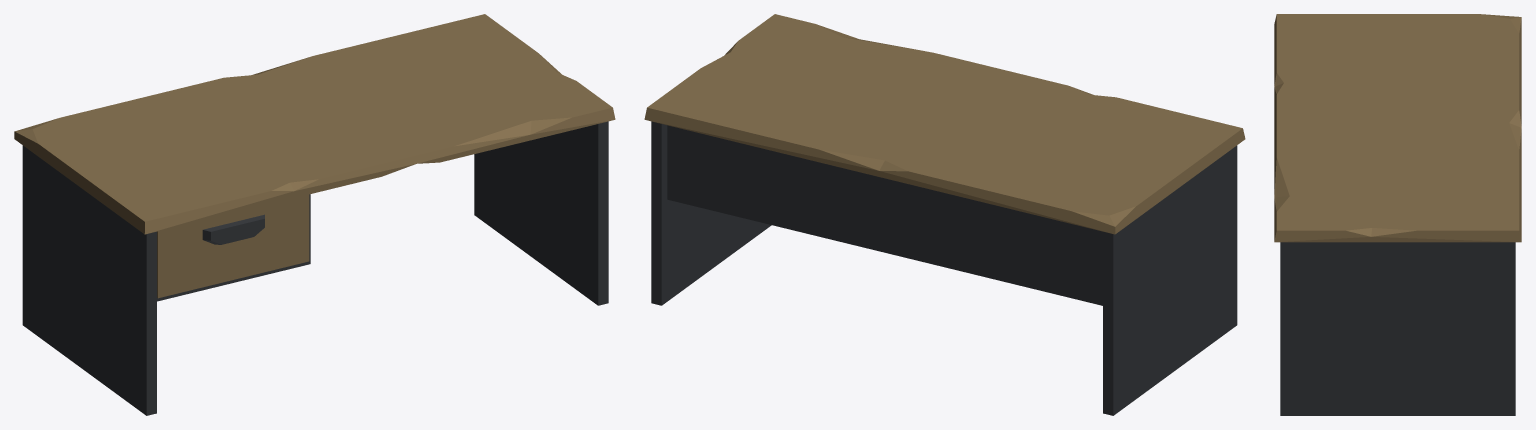
Rendered from SM_Prop_Desk_01.fbx.
3 views of the same model, side by side, from view 1: azimuth 30°, elevation 25°; view 2: azimuth 150°, elevation 25°; view 3: azimuth 270°, elevation 25° (orthographic). The views are drawn at different scales.
Visible parts, largest first — view 1: SM_Prop_Desk_01, SM_Prop_Desk_Drawer_01; view 2: SM_Prop_Desk_01; view 3: SM_Prop_Desk_01.
Part boxes in pixels (x1,y1,x2,y2): SM_Prop_Desk_01: [14, 14, 615, 415]; SM_Prop_Desk_Drawer_01: [157, 194, 309, 298]; SM_Prop_Desk_01: [644, 14, 1245, 415]; SM_Prop_Desk_01: [1274, 14, 1521, 415].
Bounding box in the file's own units: 230 × 91.76 × 110.
